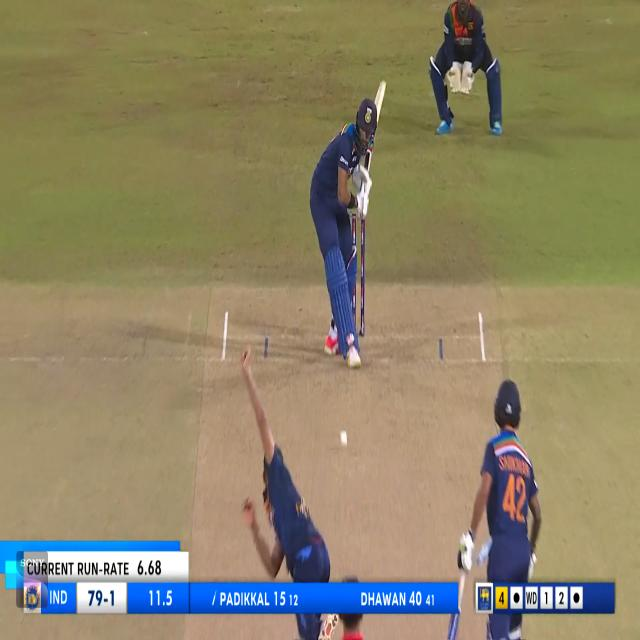ball: (338, 431, 350, 448)
